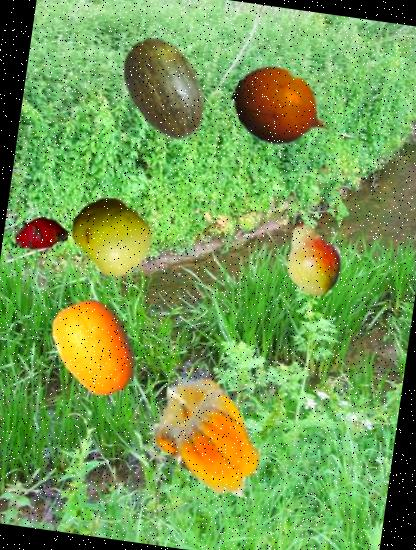Apple: (66, 191, 158, 282)
Granadilla: (225, 53, 340, 168)
Kumquats: (38, 292, 151, 404)
Melon: (104, 28, 226, 150)
Pear: (268, 212, 359, 302)
Physalis: (136, 360, 286, 510)
Pitahaya: (13, 205, 72, 264)
